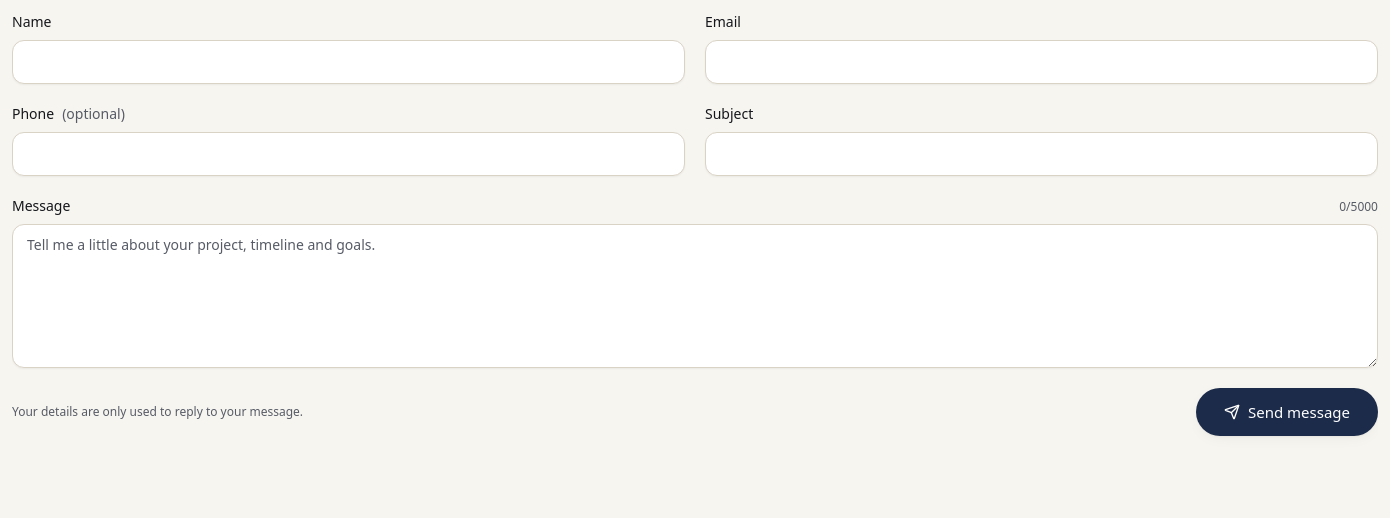
Test: ContactForm › shows the server message when rate limited
Type "Ada Lovelace" into the field labelled "Name". click: (348, 62)
box: [12,40,685,84]
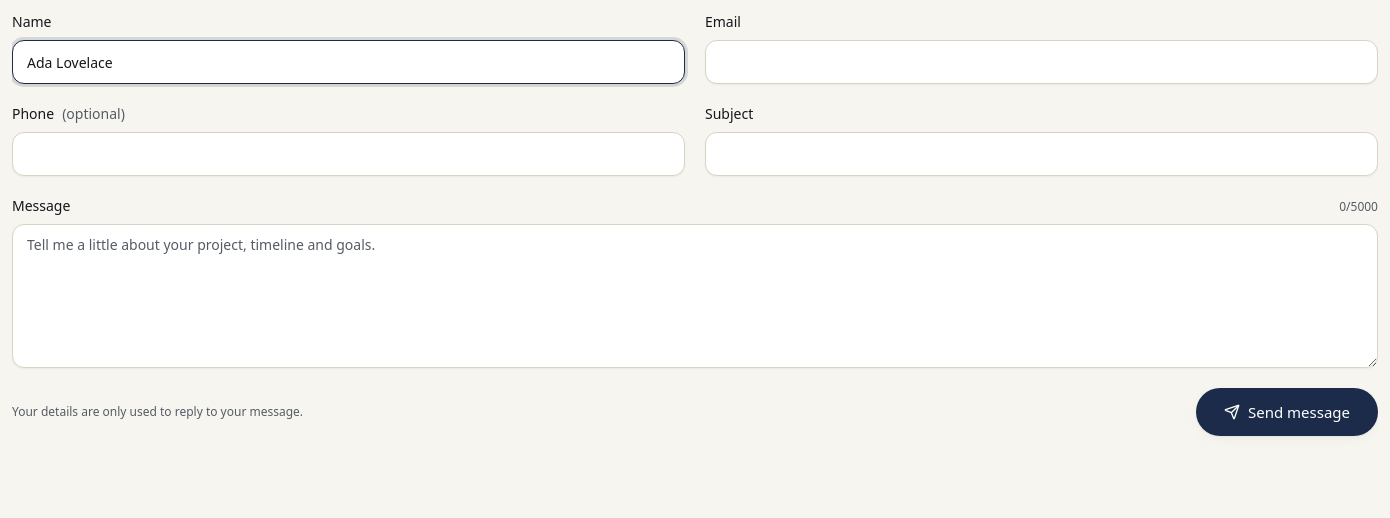
Type "ada@example.com" into the field labelled "Email". click: (1042, 62)
box: [705,40,1378,84]
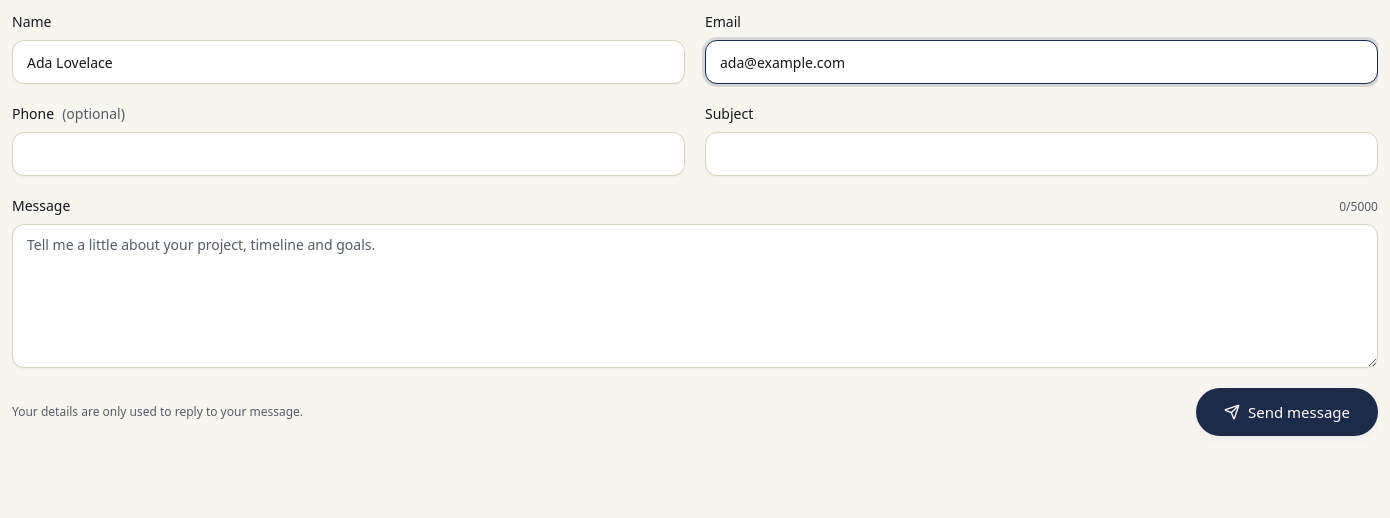
Type "+44 20 7946 0958" into the field labelled "Phone (optional)". click: (348, 154)
box: [12,132,685,176]
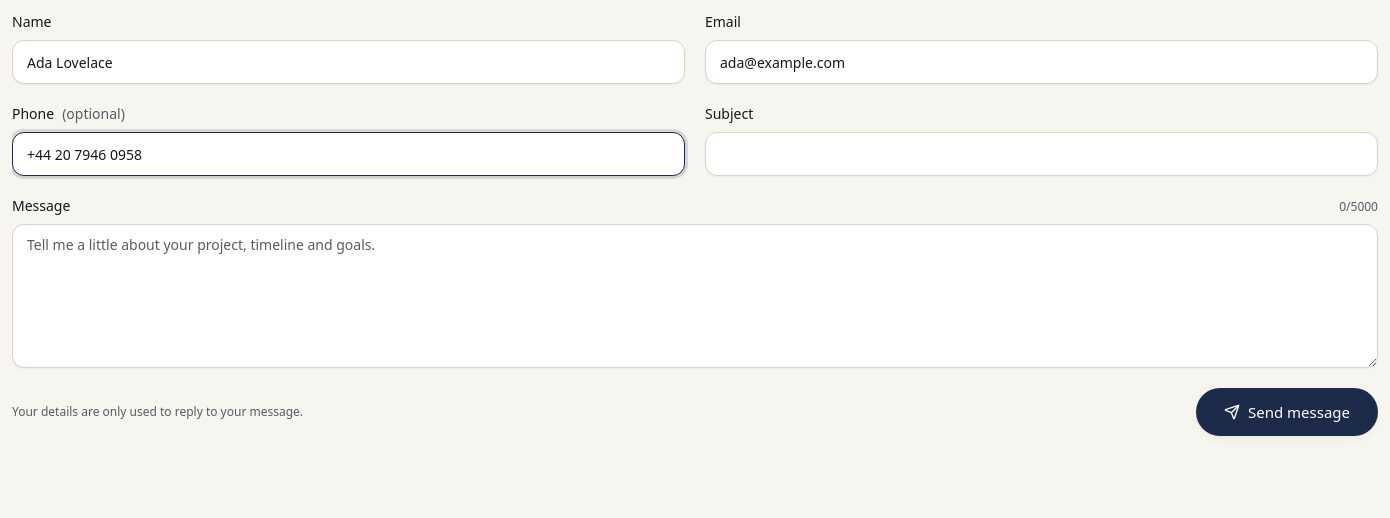
Type "New website" into the field labelled "Subject". click: (1042, 154)
box: [705,132,1378,176]
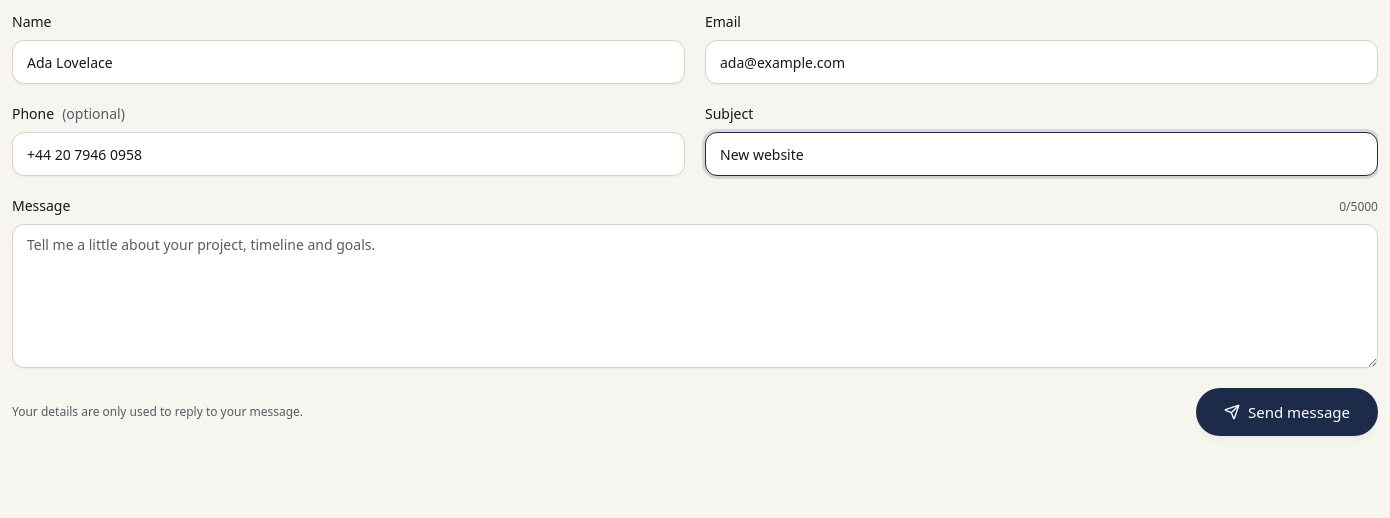
Type "I would love to discuss a new website for our company." into the text box labelled "Message". click: (695, 296)
box: [12,224,1378,368]
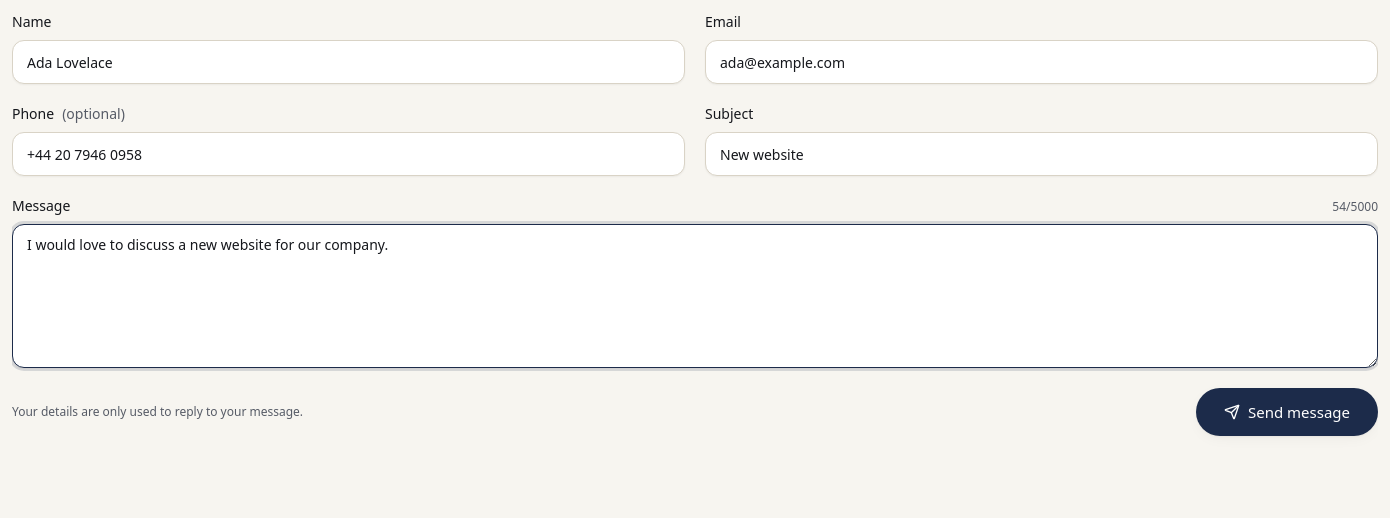
Click the button "Send message". click: (1287, 412)
box: [1196,388,1378,436]
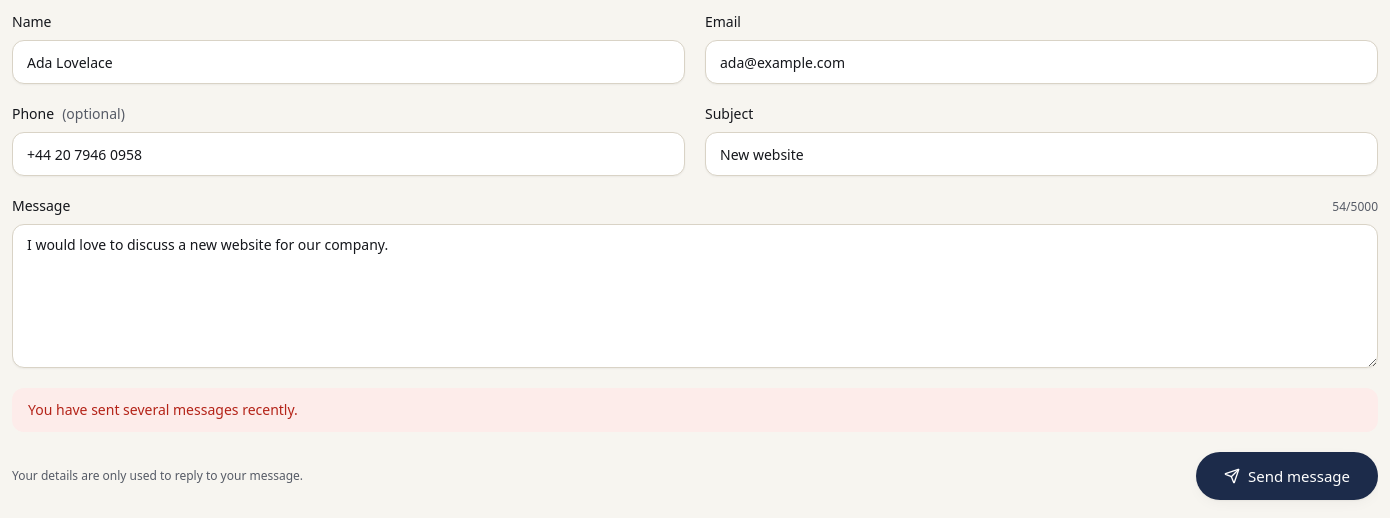
expect the message reads "You have sent several messages recently.": met, box [28,400,298,419]
